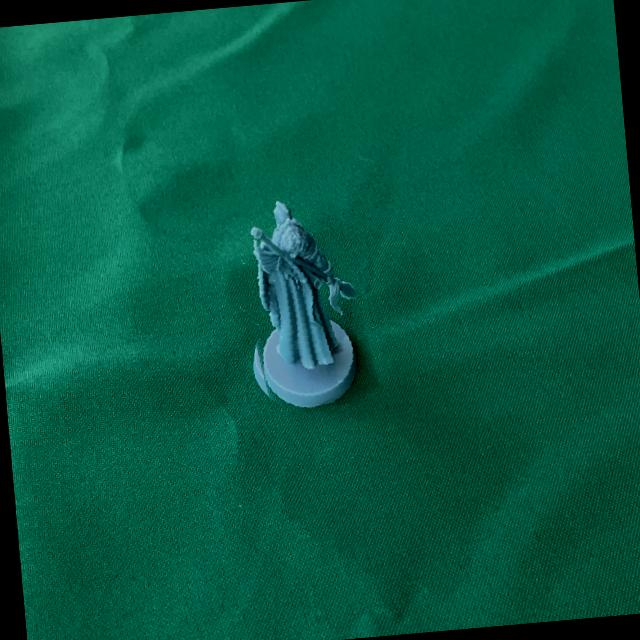isis_follower: (228, 178, 374, 415)
